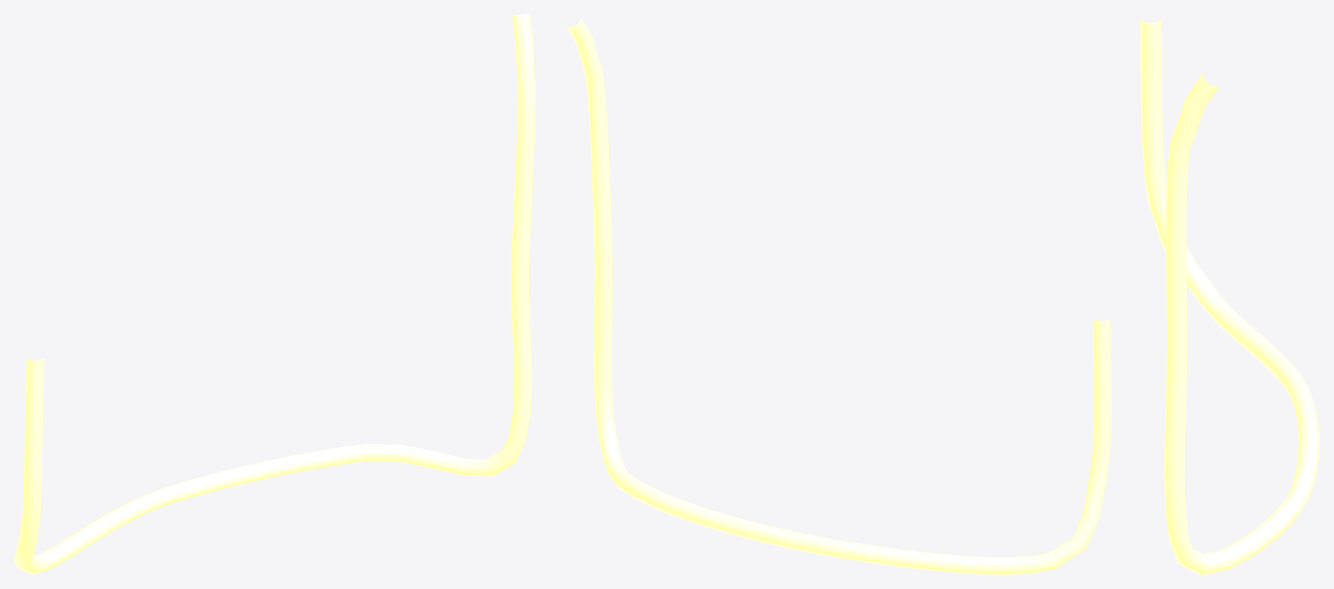
The model's file is SM_TD2_Cable_Tutorial_Lit.gltf.
3 views of the same model, side by side, from view 1: azimuth 30°, elevation 25°; view 2: azimuth 150°, elevation 25°; view 3: azimuth 270°, elevation 25° (orthographic). The views are drawn at different scales.
Parts seen in each view (by area): view 1: SM_TD2_Cable_Tutorial_Lit; view 2: SM_TD2_Cable_Tutorial_Lit; view 3: SM_TD2_Cable_Tutorial_Lit.
Part boxes in pixels (x1,y1,x2,y2): SM_TD2_Cable_Tutorial_Lit: (14,14,535,574); SM_TD2_Cable_Tutorial_Lit: (565,18,1111,574); SM_TD2_Cable_Tutorial_Lit: (1140,19,1319,574).
Size of the model in its own units: 1.32 by 1.09 by 0.3392.
